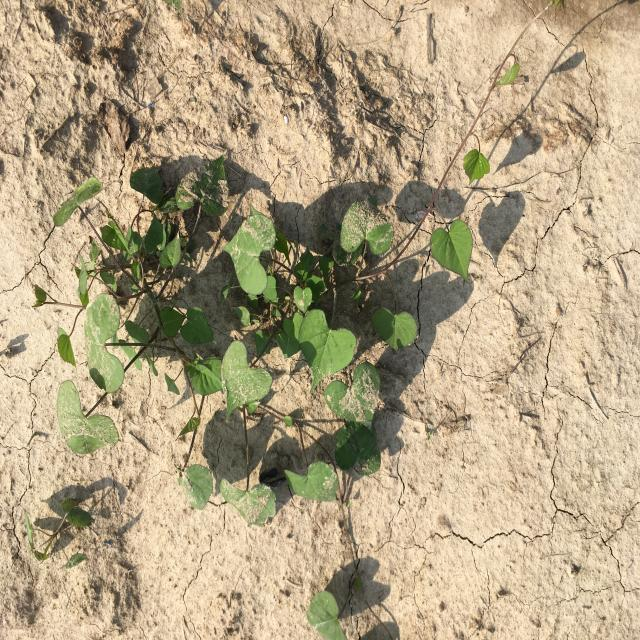MorningGlory: (33, 1, 552, 640), (24, 498, 95, 570)
